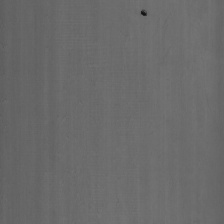inclusion: (138, 4, 151, 22)
